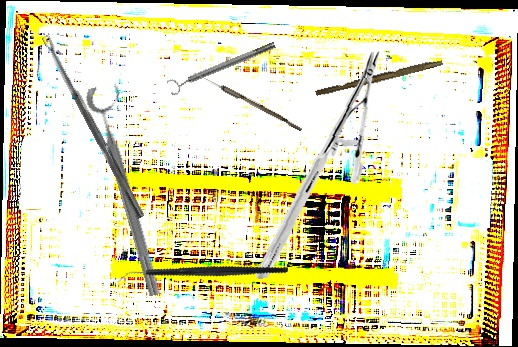Chopper: (115, 216, 290, 334)
Fixation Ring: (83, 80, 179, 299), (165, 37, 279, 97)
Needle Holder: (248, 51, 389, 279)
Scalpel Handle: (315, 56, 443, 99)
Surgical Spoon: (41, 33, 146, 220), (192, 70, 304, 132)
